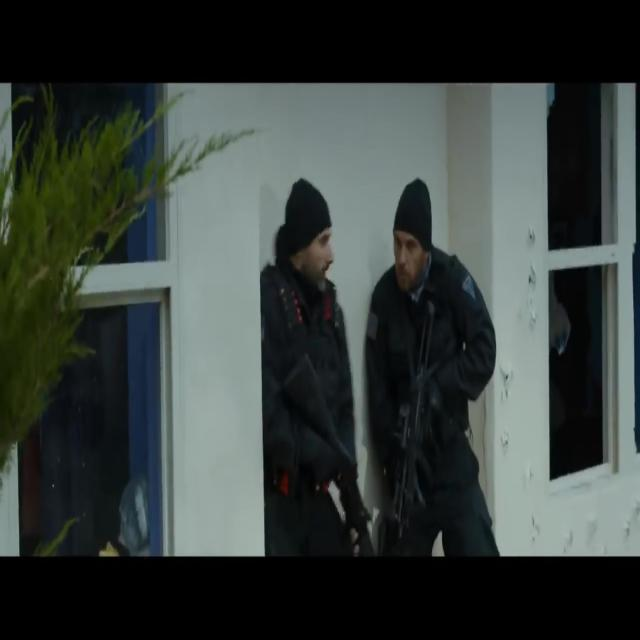Weapon: (283, 334, 417, 572), (366, 290, 479, 519), (247, 228, 338, 328)
